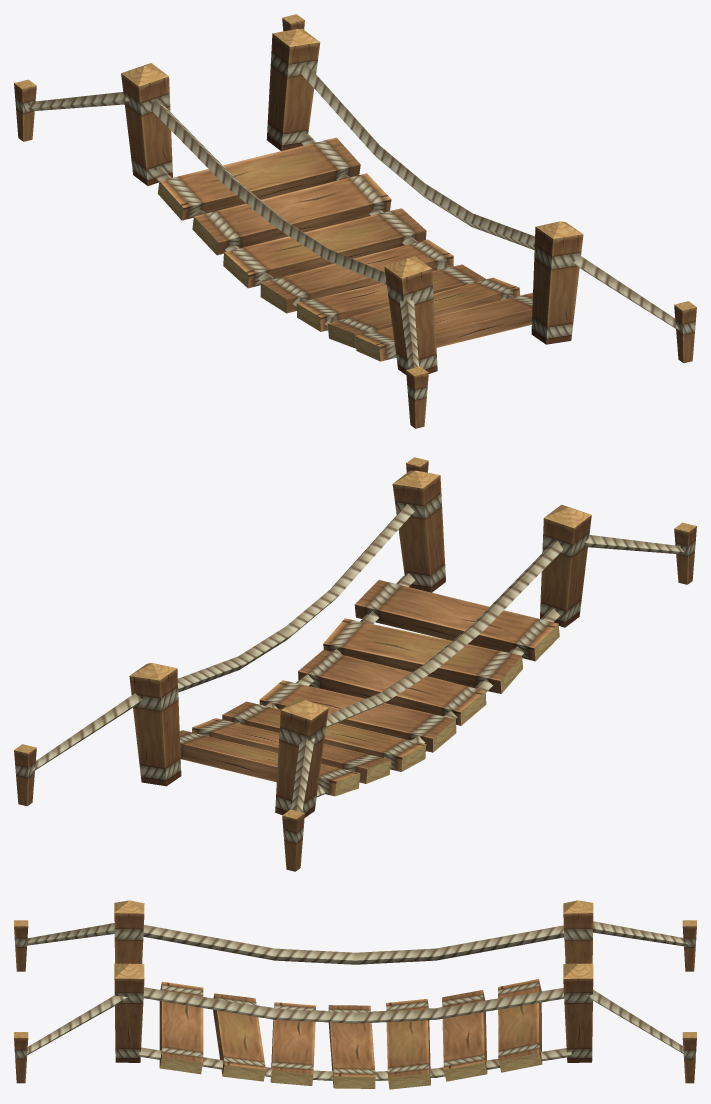
The model's file is bridge_01.fbx.
3 views of the same model, one above another, from view 1: azimuth 30°, elevation 25°; view 2: azimuth 150°, elevation 25°; view 3: azimuth 270°, elevation 25° (orthographic). The views are drawn at different scales.
Parts seen in each view (by area): view 1: bridge_01Mesh; view 2: bridge_01Mesh; view 3: bridge_01Mesh.
Part boxes in pixels (x1,y1,x2,y2): bridge_01Mesh: [14, 14, 696, 428]; bridge_01Mesh: [14, 457, 696, 871]; bridge_01Mesh: [14, 900, 696, 1089].
Size of the model in its own units: 2.41 by 1.15 by 5.91.
